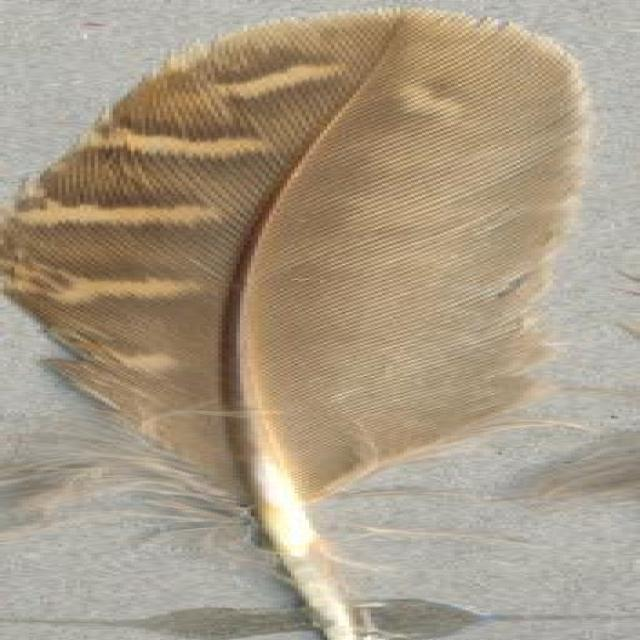feather: (0, 7, 585, 639)
